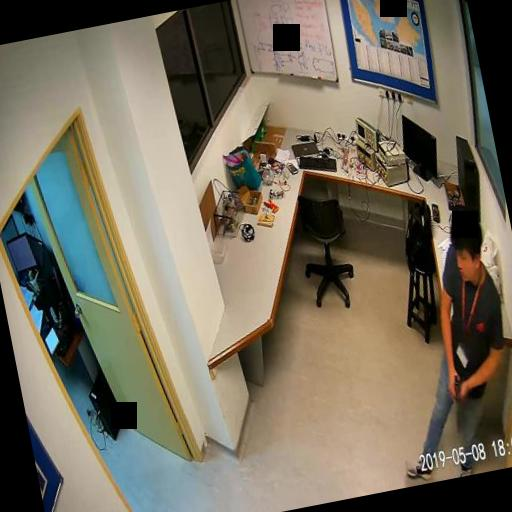Handgun: (444, 370, 470, 432)
